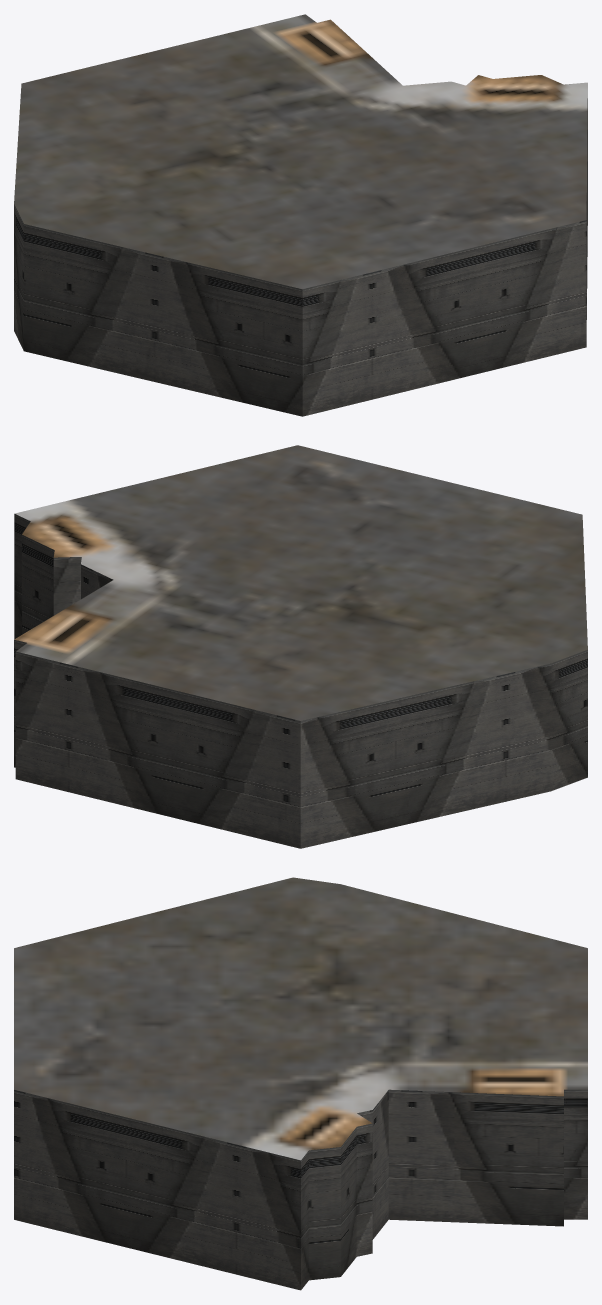
The model's file is fortress_light_a_61.glb.
3 renders of one model, top to bottom at view 1: azimuth 30°, elevation 25°; view 2: azimuth 150°, elevation 25°; view 3: azimuth 270°, elevation 25°, orthographic. The views are drawn at different scales.
Visible parts, largest first — view 1: buildings/saxarba/fortress_light/fortress_light_a_61; view 2: buildings/saxarba/fortress_light/fortress_light_a_61; view 3: buildings/saxarba/fortress_light/fortress_light_a_61.
Boxes of the visible parts, x1,y1,x2,y2 form: buildings/saxarba/fortress_light/fortress_light_a_61: (14,14,587,416); buildings/saxarba/fortress_light/fortress_light_a_61: (14,445,587,848); buildings/saxarba/fortress_light/fortress_light_a_61: (14,877,587,1290).
Bounding box in the file's own units: 84 × 18 × 72.
